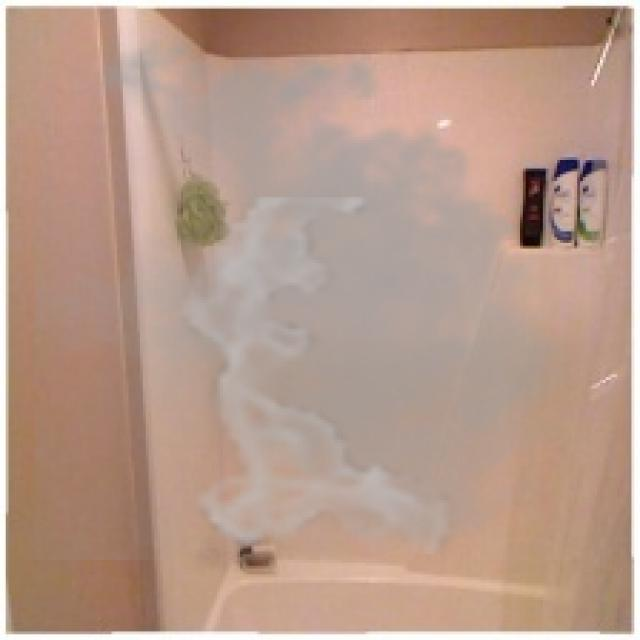Smoke: (34, 20, 594, 560)
